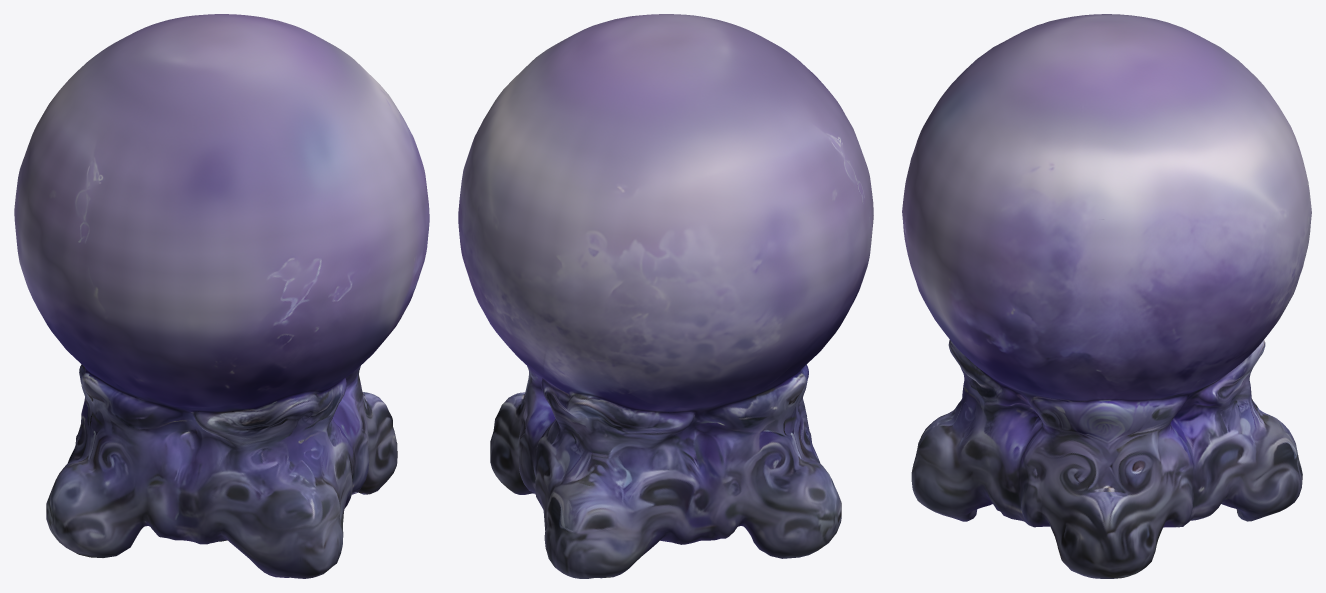
Rendered from crystal_ball.glb.
3 renders of one model, left to right at view 1: azimuth 30°, elevation 25°; view 2: azimuth 150°, elevation 25°; view 3: azimuth 270°, elevation 25°, orthographic.
Parts seen in each view (by area): view 1: Object_2; view 2: Object_2; view 3: Object_2.
Part boxes in pixels (x1,y1,x2,y2): Object_2: (14, 14, 429, 578); Object_2: (458, 14, 873, 578); Object_2: (902, 14, 1311, 578).
Size of the model in its own units: 1.46 by 1.88 by 1.45.
1 material, 1 textured.
